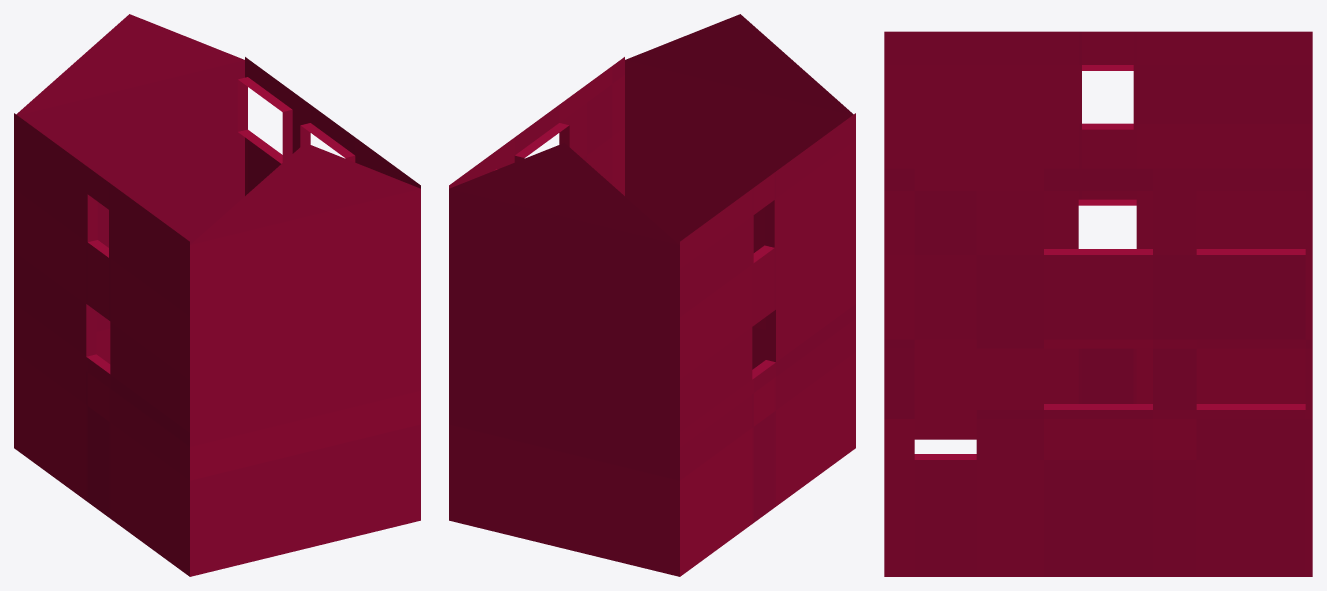
The model's file is SM_Bld_083_Masonry.glb.
3 views of the same model, side by side, from view 1: azimuth 30°, elevation 25°; view 2: azimuth 150°, elevation 25°; view 3: azimuth 270°, elevation 25° (orthographic). The views are drawn at different scales.
Parts seen in each view (by area): view 1: SM_Bld_083_Masonry; view 2: SM_Bld_083_Masonry; view 3: SM_Bld_083_Masonry.
Part boxes in pixels (x1,y1,x2,y2): SM_Bld_083_Masonry: (14,14,420,576); SM_Bld_083_Masonry: (449,14,855,576); SM_Bld_083_Masonry: (884,31,1312,576).
Size of the model in its own units: 5.02 by 8.44 by 6.63.
